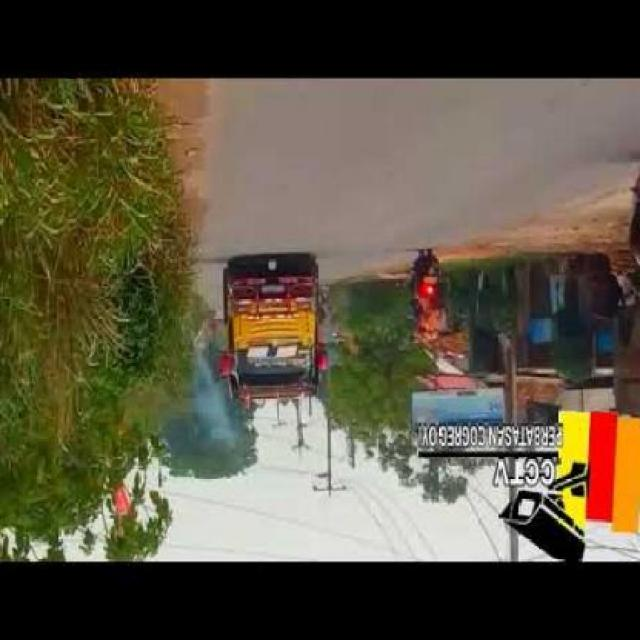truck: (223, 256, 332, 417)
